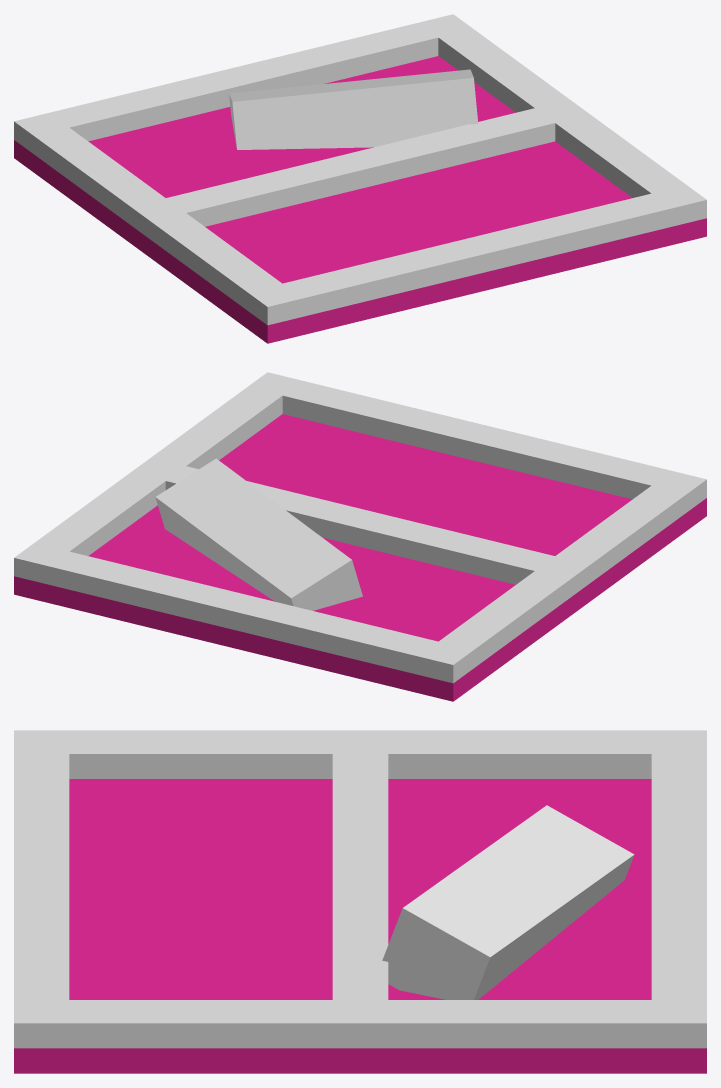
3 views of the same model, one above another, from view 1: azimuth 30°, elevation 25°; view 2: azimuth 150°, elevation 25°; view 3: azimuth 270°, elevation 25° (orthographic). The views are drawn at different scales.
Visible parts, largest first — view 1: single room, (instance: cuboid), (instance: cuboid) (physics: immovable cuboid).004, (instance: cuboid) (physics: immovable cuboid), (instance: cuboid) (physics: immovable cuboid).003, (instance: cuboid) (physics: immovable cuboid).002, (instance: cuboid) (physics: immovable cuboid).001; view 2: single room, (instance: cuboid), (instance: cuboid) (physics: immovable cuboid).004, (instance: cuboid) (physics: immovable cuboid), (instance: cuboid) (physics: immovable cuboid).002, (instance: cuboid) (physics: immovable cuboid).001, (instance: cuboid) (physics: immovable cuboid).003; view 3: single room, (instance: cuboid) (physics: immovable cuboid).001, (instance: cuboid) (physics: immovable cuboid).002, (instance: cuboid), (instance: cuboid) (physics: immovable cuboid).003, (instance: cuboid) (physics: immovable cuboid), (instance: cuboid) (physics: immovable cuboid).004.
Boxes of the visible parts, box(x1,y1,x2,y2) form: single room: box(14, 56, 706, 343); (instance: cuboid): box(229, 69, 478, 149); (instance: cuboid) (physics: immovable cuboid).004: box(250, 193, 706, 324); (instance: cuboid) (physics: immovable cuboid): box(14, 15, 472, 142); (instance: cuboid) (physics: immovable cuboid).003: box(130, 100, 587, 239); (instance: cuboid) (physics: immovable cuboid).002: box(14, 113, 302, 325); (instance: cuboid) (physics: immovable cuboid).001: box(418, 14, 706, 226); single room: box(14, 414, 706, 701); (instance: cuboid): box(155, 458, 362, 610); (instance: cuboid) (physics: immovable cuboid).004: box(248, 374, 706, 512); (instance: cuboid) (physics: immovable cuboid): box(14, 551, 473, 683); (instance: cuboid) (physics: immovable cuboid).002: box(418, 471, 706, 682); (instance: cuboid) (physics: immovable cuboid).001: box(14, 372, 302, 584); (instance: cuboid) (physics: immovable cuboid).003: box(133, 458, 590, 597); single room: box(14, 779, 706, 1073); (instance: cuboid) (physics: immovable cuboid).001: box(14, 1000, 706, 1048); (instance: cuboid) (physics: immovable cuboid).002: box(14, 730, 706, 778); (instance: cuboid): box(382, 805, 634, 999); (instance: cuboid) (physics: immovable cuboid).003: box(332, 730, 388, 1048); (instance: cuboid) (physics: immovable cuboid): box(651, 730, 706, 1048); (instance: cuboid) (physics: immovable cuboid).004: box(14, 730, 69, 1048).
Size of the model in its own units: 25 by 4.97 by 25.
